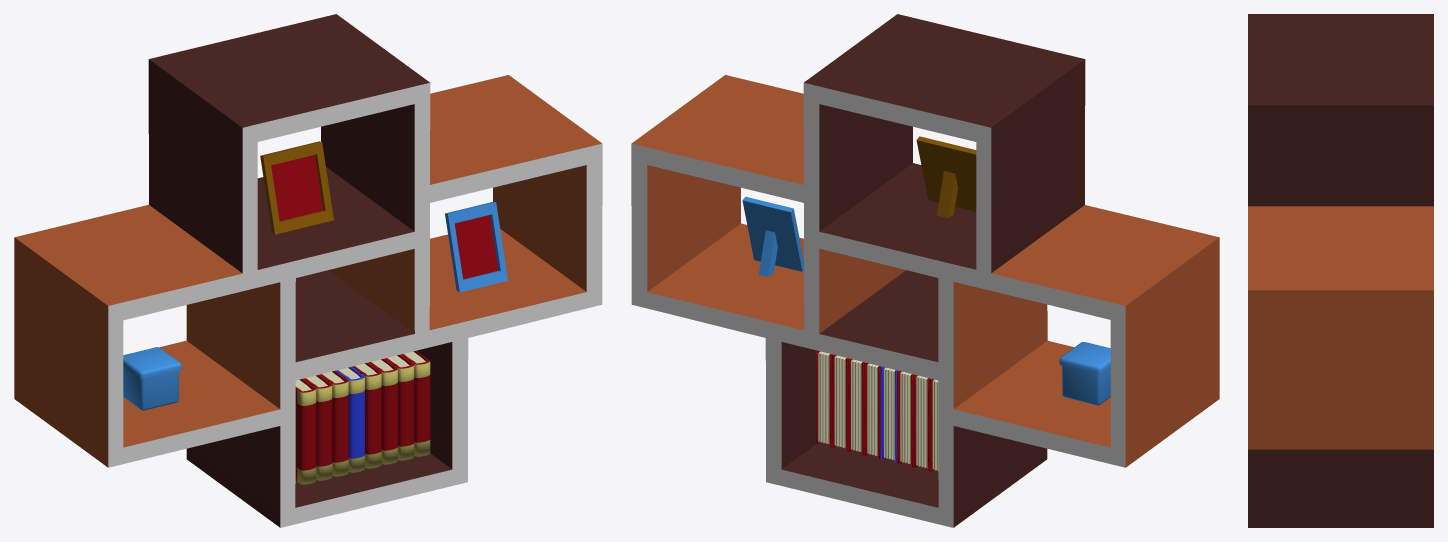
The model's file is shelves_tier12.fbx.
The picture shows the model from 3 angles, left to right: view 1: azimuth 30°, elevation 25°; view 2: azimuth 150°, elevation 25°; view 3: azimuth 270°, elevation 25°; orthographic projection.
Visible parts, largest first — view 1: Cube.011, Cube.014, Cube.013, Cube, Cube.009, Cube.004, Cube.003, Cube.006, Cube.002, Cube.007, Cube.008, Cube.001; view 2: Cube.011, Cube.014, Cube.013, Cube, Cube.004, Cube.003, Cube.002, Cube.006, Cube.007, Cube.008, Cube.001, Cube.009; view 3: Cube.011.
Boxes of the visible parts, x1=… form: Cube.011: x1=14, y1=14, x2=602, y2=527; Cube.014: x1=260, y1=141, x2=333, y2=234; Cube.013: x1=445, y1=201, x2=507, y2=292; Cube: x1=123, y1=347, x2=181, y2=410; Cube.009: x1=295, y1=378, x2=316, y2=484; Cube.004: x1=352, y1=362, x2=381, y2=468; Cube.003: x1=369, y1=358, x2=397, y2=464; Cube.006: x1=336, y1=366, x2=364, y2=472; Cube.002: x1=385, y1=354, x2=414, y2=460; Cube.007: x1=320, y1=370, x2=348, y2=476; Cube.008: x1=304, y1=374, x2=332, y2=480; Cube.001: x1=401, y1=351, x2=430, y2=456; Cube.011: x1=631, y1=14, x2=1219, y2=527; Cube.014: x1=916, y1=136, x2=976, y2=217; Cube.013: x1=742, y1=196, x2=803, y2=276; Cube: x1=1059, y1=342, x2=1110, y2=405; Cube.004: x1=864, y1=362, x2=881, y2=459; Cube.003: x1=847, y1=358, x2=864, y2=455; Cube.002: x1=831, y1=354, x2=848, y2=451; Cube.006: x1=880, y1=366, x2=897, y2=463; Cube.007: x1=897, y1=370, x2=913, y2=467; Cube.008: x1=913, y1=374, x2=929, y2=471; Cube.001: x1=816, y1=351, x2=832, y2=447; Cube.009: x1=929, y1=378, x2=938, y2=471; Cube.011: x1=1248, y1=14, x2=1433, y2=527.
Bounding box in the file's own units: 173 × 137 × 56.75.
